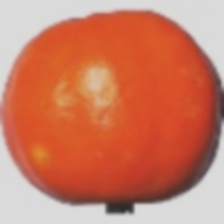tangerine: (33, 38, 192, 221)
